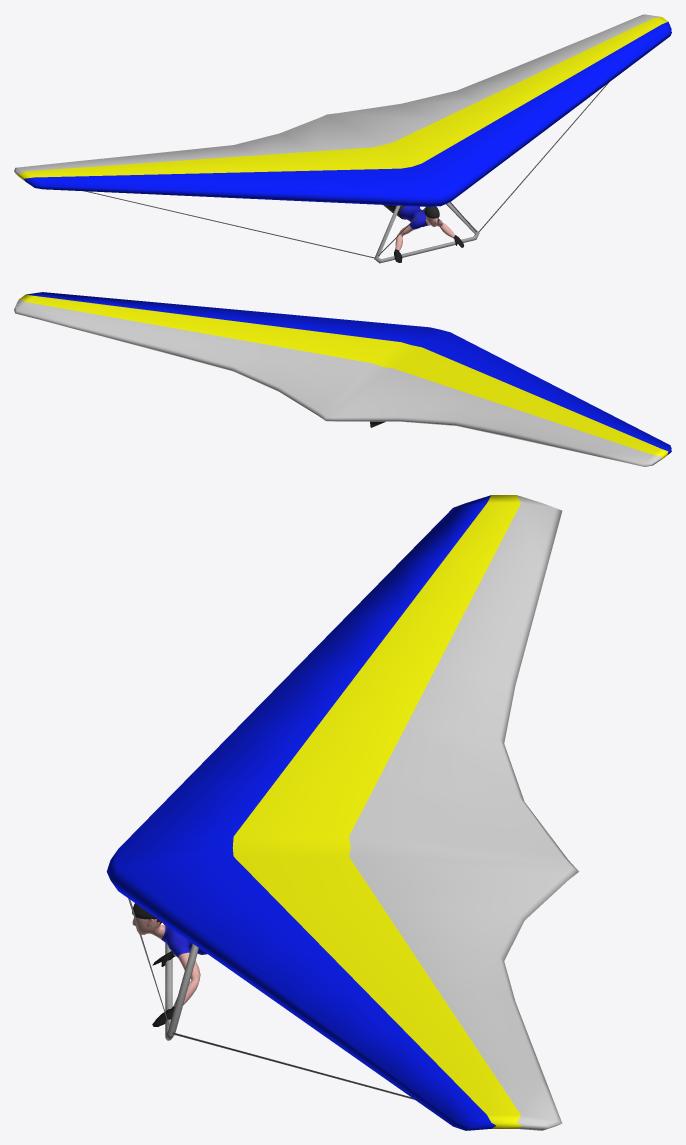
Rendered from hang_glider_001.fbx.
The picture shows the model from 3 angles, top to bottom: view 1: azimuth 30°, elevation 25°; view 2: azimuth 150°, elevation 25°; view 3: azimuth 270°, elevation 25°; orthographic projection. The views are drawn at different scales.
Visible parts, largest first — view 1: hang_glider_001; view 2: hang_glider_001; view 3: hang_glider_001.
Part boxes in pixels (x1=…): hang_glider_001: x1=14, y1=14, x2=671, y2=263; hang_glider_001: x1=14, y1=292, x2=671, y2=466; hang_glider_001: x1=106, y1=495, x2=578, y2=1130.
Bounding box in the file's own units: 11.77 × 1.63 × 3.74.
